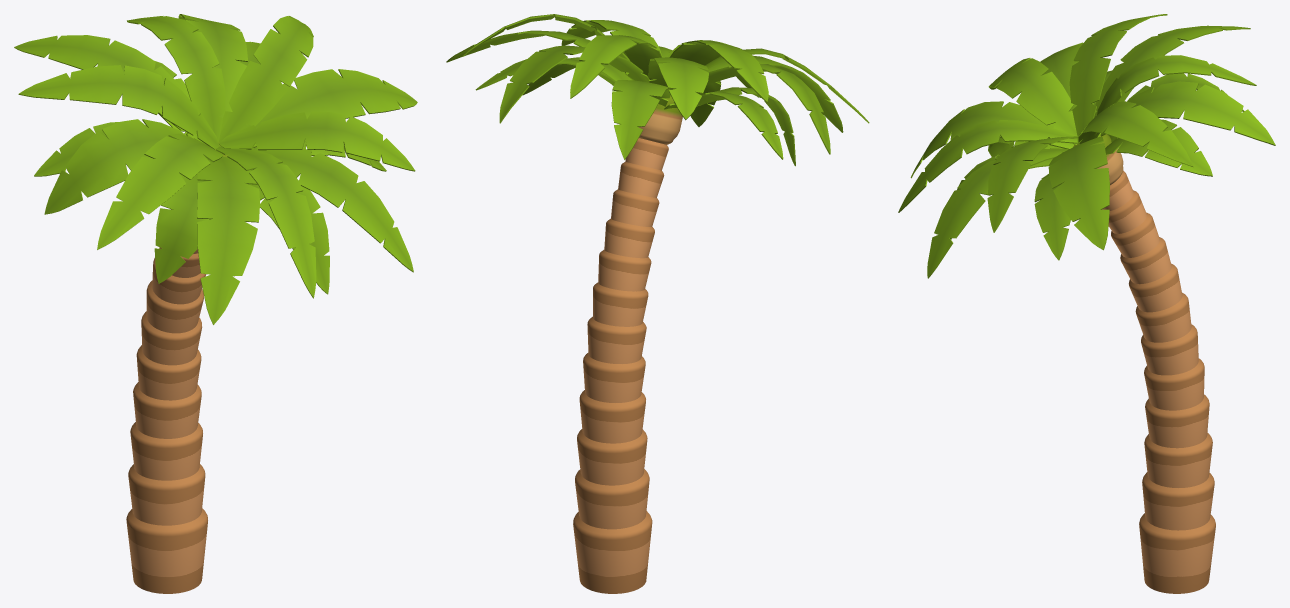
Rendered from Palm_02.fbx.
3 renders of one model, left to right at view 1: azimuth 30°, elevation 25°; view 2: azimuth 150°, elevation 25°; view 3: azimuth 270°, elevation 25°, orthographic. The views are drawn at different scales.
Visible parts, largest first — view 1: Palm_Leaf_02_01, Palm_Leaf_02_02, Palm_Main_02, Palm_Leaf_02_03; view 2: Palm_Main_02, Palm_Leaf_02_02, Palm_Leaf_02_01, Palm_Leaf_02_03, Palm_Up_02; view 3: Palm_Main_02, Palm_Leaf_02_01, Palm_Leaf_02_02, Palm_Leaf_02_03, Palm_Up_02.
Boxes of the visible parts, x1,y1,x2,y2 form: Palm_Leaf_02_01: (18,16,415,298); Palm_Leaf_02_02: (14,14,417,324); Palm_Main_02: (126,209,207,593); Palm_Leaf_02_03: (34,41,386,294); Palm_Main_02: (573,138,668,593); Palm_Leaf_02_02: (446,30,843,154); Palm_Leaf_02_01: (463,14,869,123); Palm_Leaf_02_03: (475,57,795,166); Palm_Up_02: (638,95,682,144); Palm_Main_02: (1102,170,1215,593); Palm_Leaf_02_01: (898,14,1256,232); Palm_Leaf_02_02: (910,25,1275,278); Palm_Leaf_02_03: (950,70,1244,260); Palm_Up_02: (1073,134,1123,185).
Bounding box in the file's own units: 8.35 × 11.47 × 7.55.
